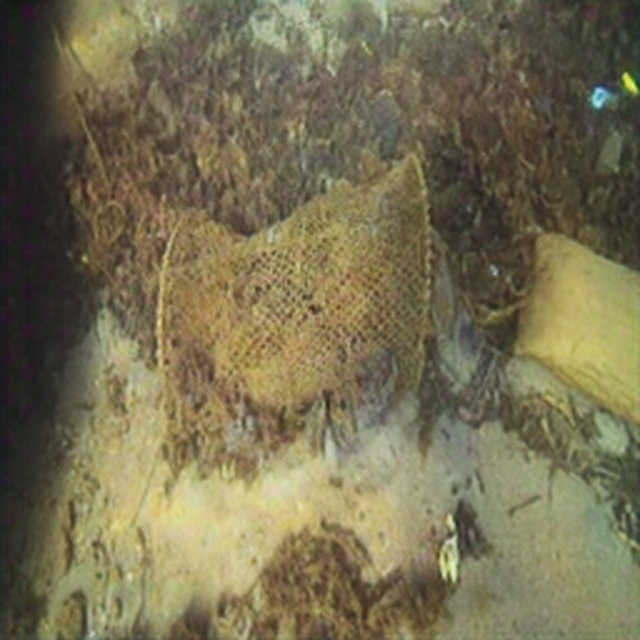mine: (156, 148, 432, 426)
